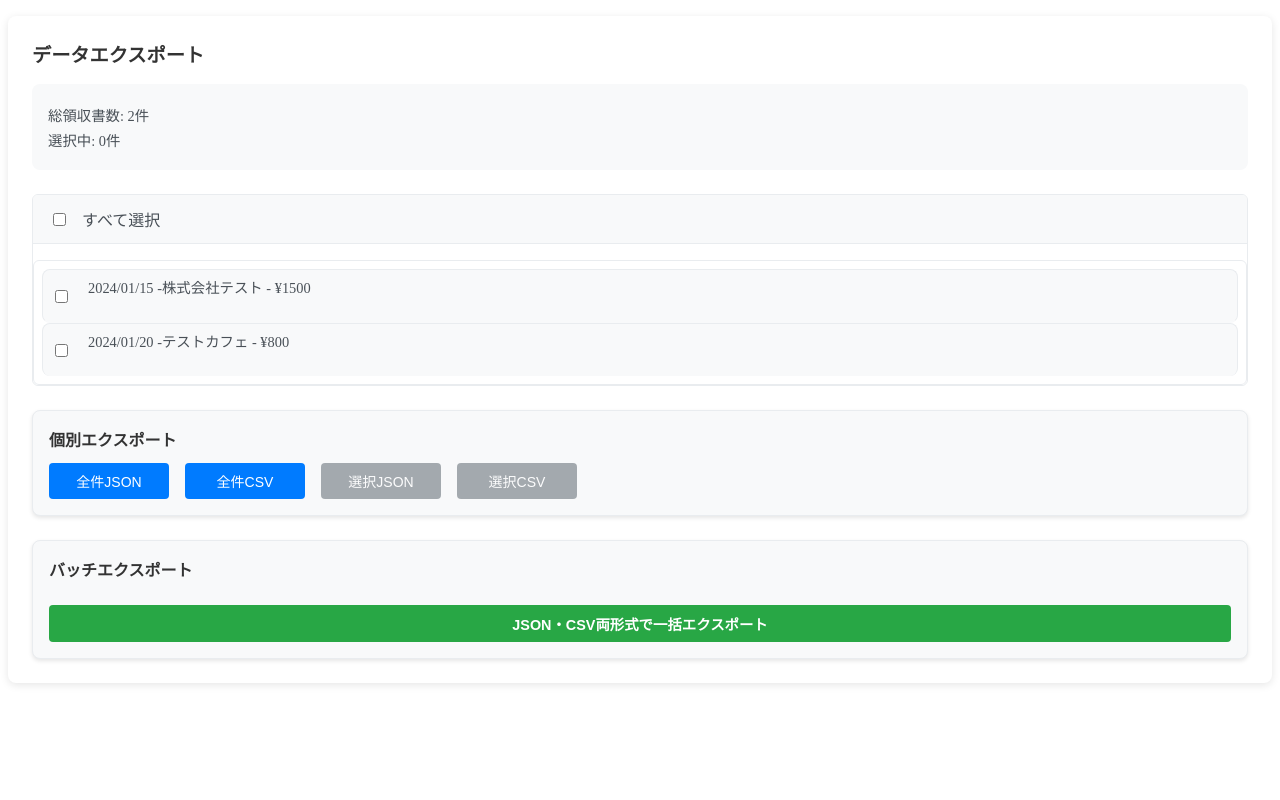
Test: ExportPanel › should show export status message
Click the button "全件JSON" at (109, 481), box [49,463,169,499]
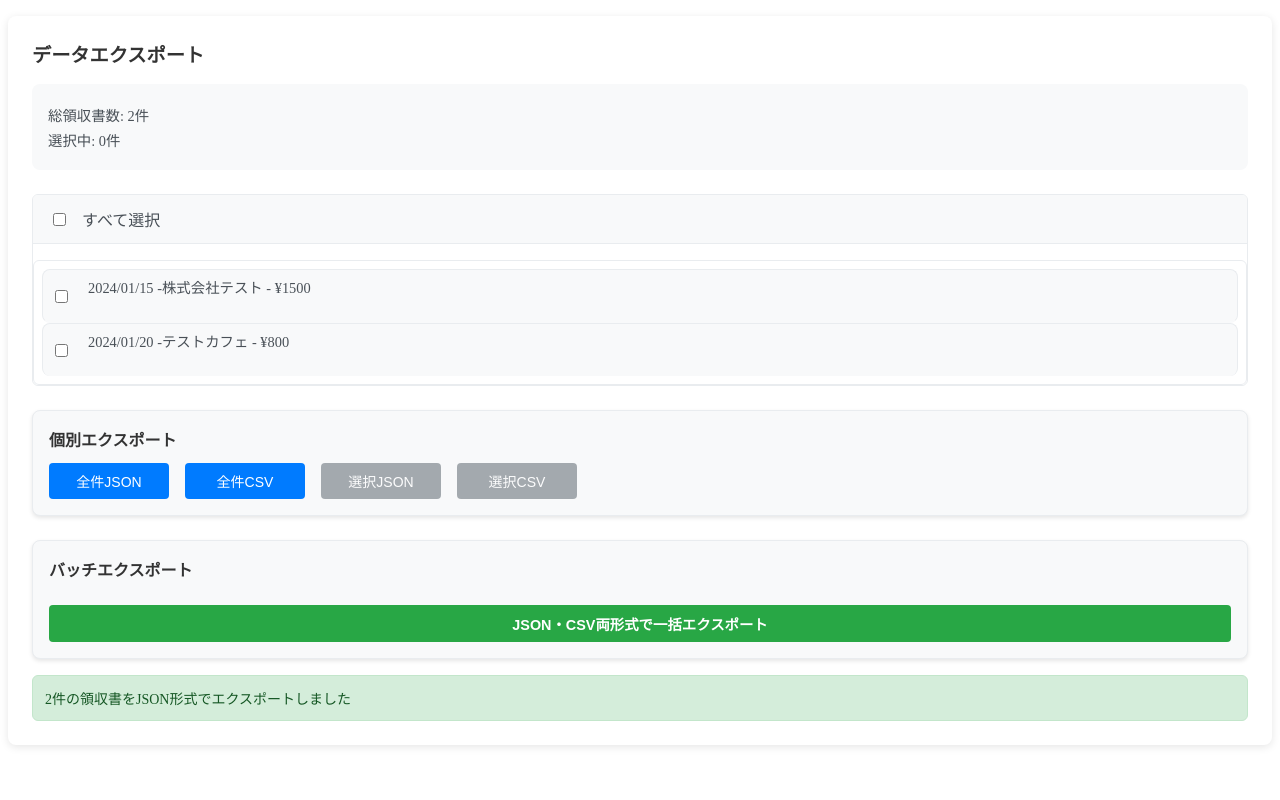
Check: the text "2件の領収書をJSON形式でエクスポートしました" is shown, box [32,675,1248,721]
